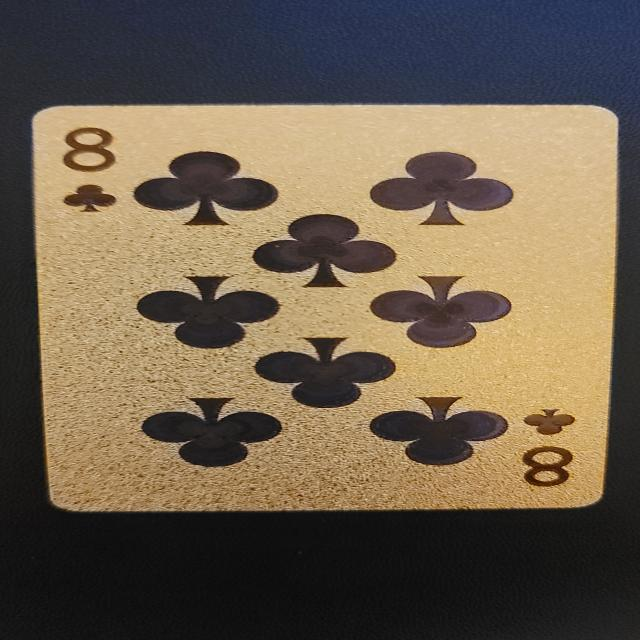8 of clubs: (33, 106, 617, 512)
